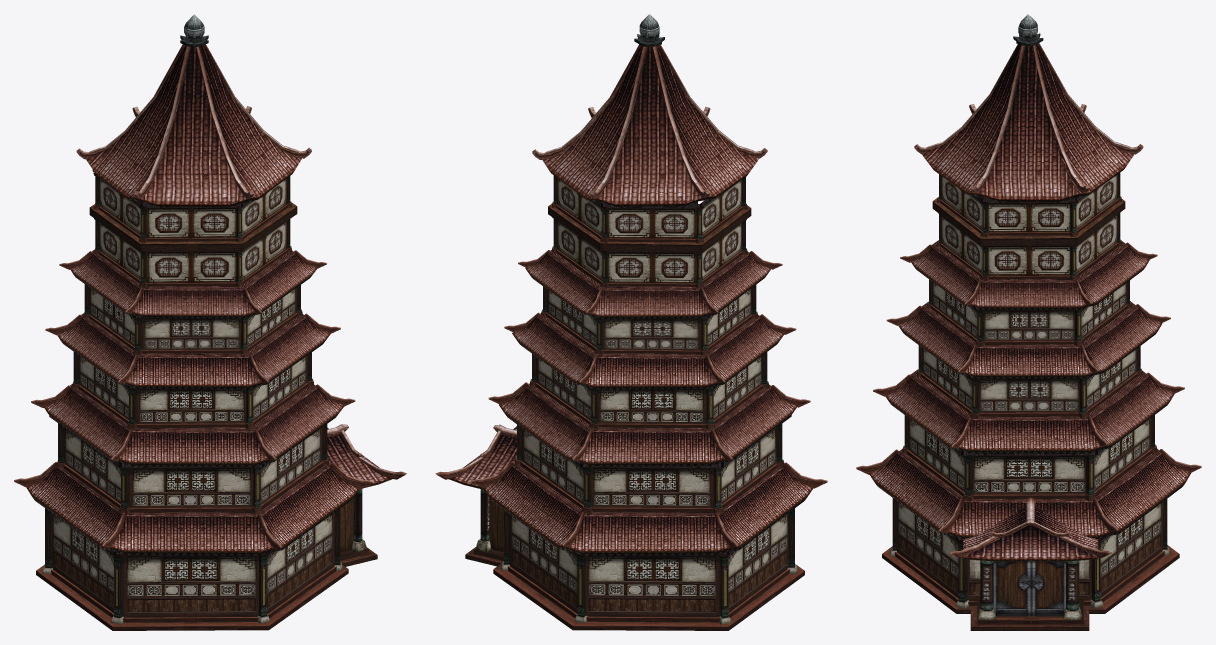
Rendered from a1-013-6tower.glb.
3 renders of one model, left to right at view 1: azimuth 30°, elevation 25°; view 2: azimuth 150°, elevation 25°; view 3: azimuth 270°, elevation 25°, orthographic. The views are drawn at different scales.
Parts seen in each view (by area): view 1: b1-013-6tower-01; view 2: b1-013-6tower-01; view 3: b1-013-6tower-01.
Boxes of the visible parts, x1,y1,x2,y2 form: b1-013-6tower-01: [14, 14, 406, 630]; b1-013-6tower-01: [435, 14, 827, 630]; b1-013-6tower-01: [856, 14, 1201, 630].
Bounding box in the file's own units: 15.6 × 27.14 × 15.61.
2 materials, 2 textured.
